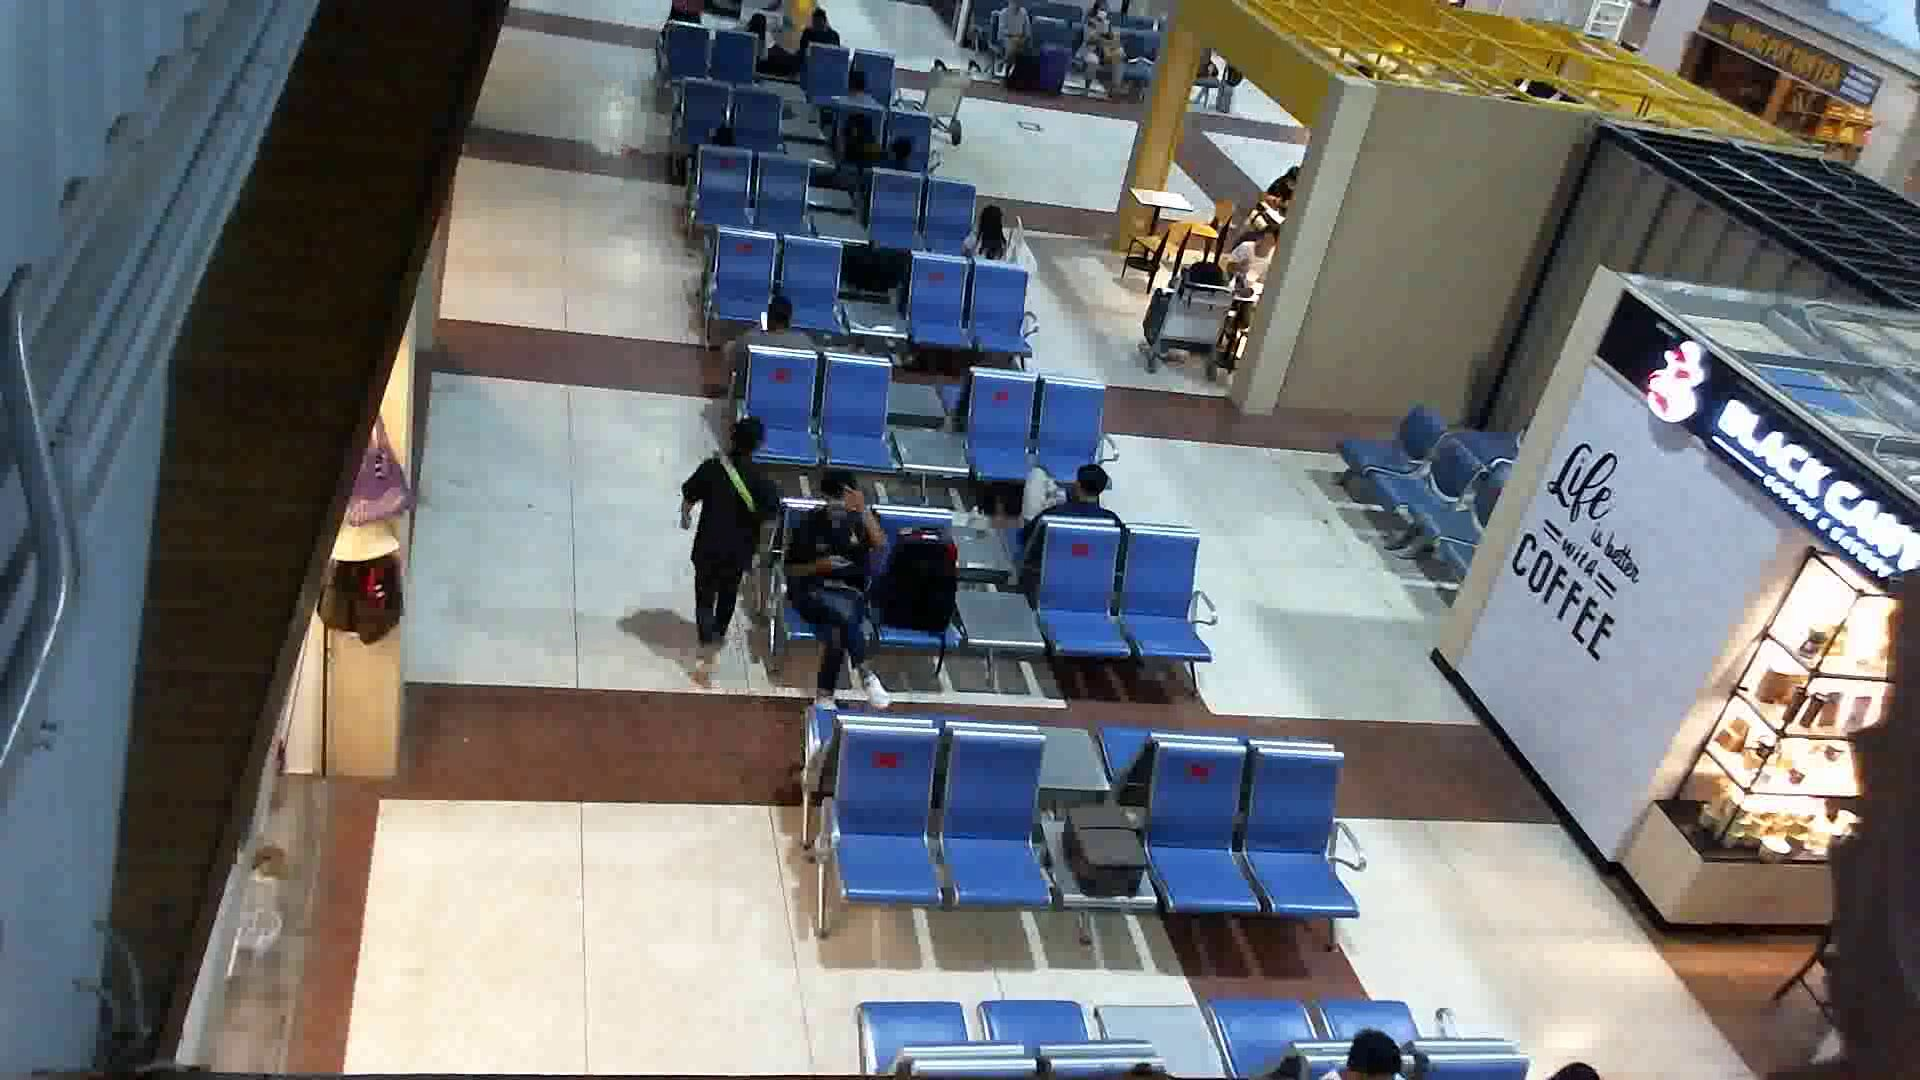luggage: (867, 518, 973, 656), (1057, 789, 1151, 908)
people: (671, 404, 788, 702), (774, 466, 900, 725), (1007, 456, 1138, 554)
